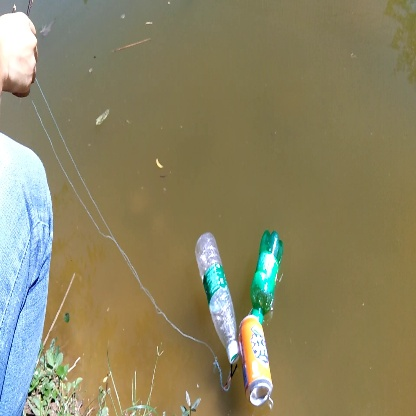bottle: (190, 234, 241, 360), (244, 228, 284, 320)
